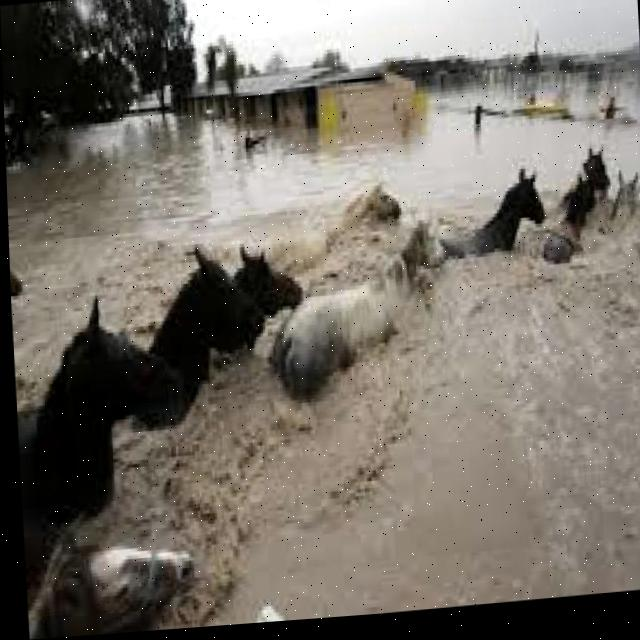horse: (232, 215, 461, 403), (11, 284, 190, 524), (22, 508, 208, 640), (138, 230, 270, 412), (263, 175, 423, 257), (442, 161, 546, 285), (526, 175, 604, 274), (220, 236, 301, 316), (555, 142, 618, 216), (602, 157, 640, 228)
